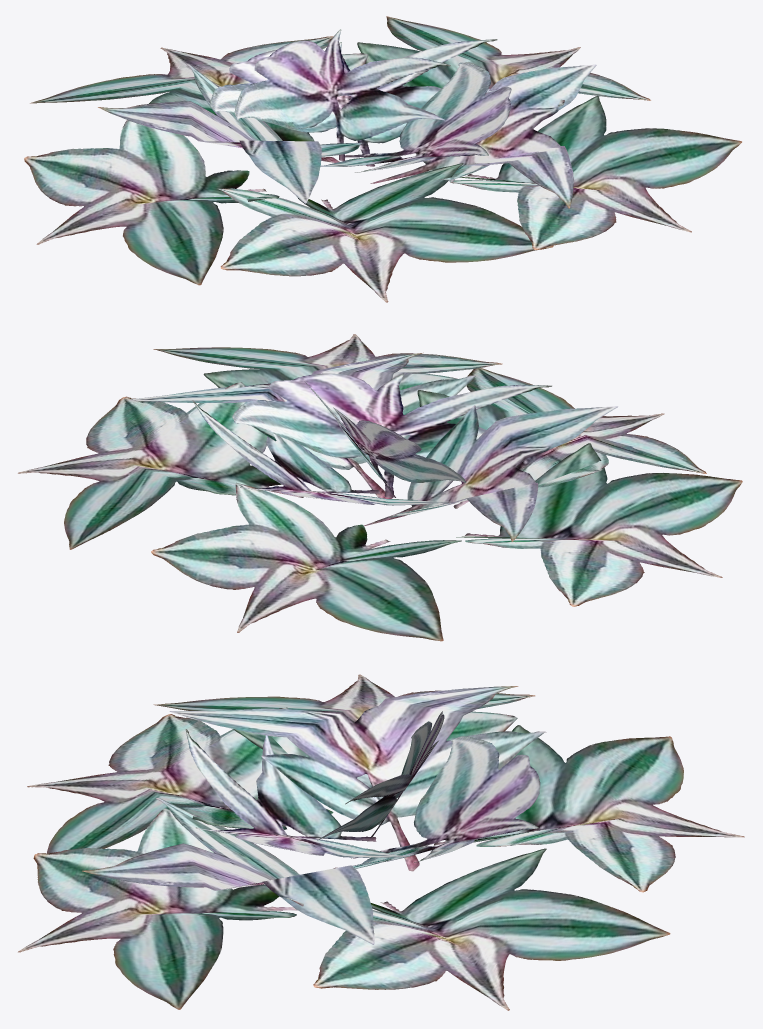
File: Arbusto_JudeuErrante.fbx
3 views of the same model, one above another, from view 1: azimuth 30°, elevation 25°; view 2: azimuth 150°, elevation 25°; view 3: azimuth 270°, elevation 25° (orthographic). The views are drawn at different scales.
Parts seen in each view (by area): view 1: Plane.016; view 2: Plane.016; view 3: Plane.016.
Boxes of the visible parts, <box> form: Plane.016: <box>24,16,741,302</box>; Plane.016: <box>18,334,742,641</box>; Plane.016: <box>18,674,744,1010</box>.
Size of the model in its own units: 216 by 41.78 by 192.
Materials: 1 (1 with a texture image).
